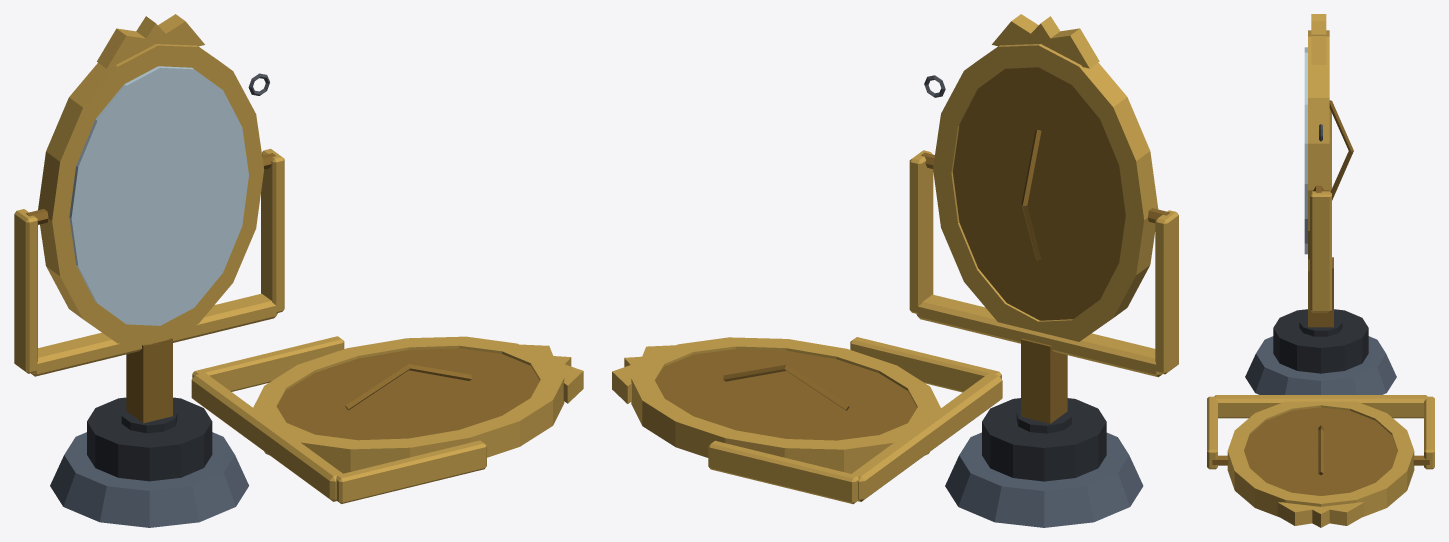
File: mirror.glb
3 renders of one model, left to right at view 1: azimuth 30°, elevation 25°; view 2: azimuth 150°, elevation 25°; view 3: azimuth 270°, elevation 25°, orthographic. The views are drawn at different scales.
Parts seen in each view (by area): view 1: frame_toppled, mirror_surface, frame, base, post; view 2: frame, frame_toppled, base, post; view 3: frame_toppled, base, frame, post, mirror_surface.
Boxes of the visible parts, bbox=[...] form: frame_toppled: bbox=[191, 336, 583, 503]; mirror_surface: bbox=[69, 66, 248, 325]; frame: bbox=[14, 14, 284, 376]; base: bbox=[50, 397, 248, 527]; post: bbox=[121, 338, 177, 433]; frame: bbox=[909, 14, 1178, 377]; frame_toppled: bbox=[612, 337, 1002, 504]; base: bbox=[945, 398, 1143, 527]; post: bbox=[1016, 338, 1071, 433]; frame_toppled: bbox=[1207, 395, 1434, 527]; base: bbox=[1245, 309, 1396, 394]; frame: bbox=[1308, 14, 1353, 313]; post: bbox=[1299, 257, 1342, 336]; mirror_surface: bbox=[1304, 47, 1307, 254].
Size of the model in its own units: 2.23 by 1.81 by 1.05.
2 materials, 2 textured.
